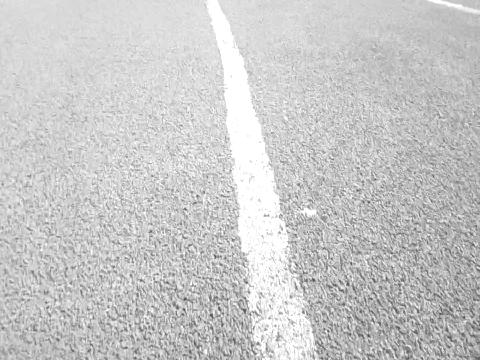Lines: (203, 0, 322, 360)
